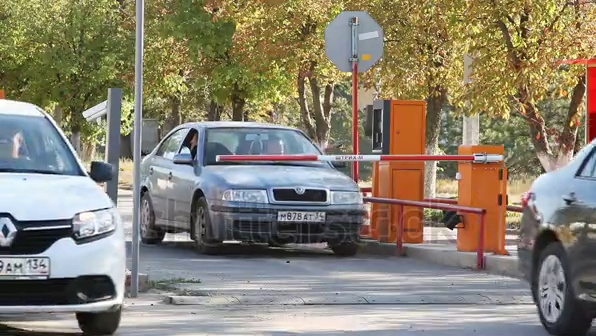licenseplate: (1, 254, 53, 284), (278, 211, 335, 227)
